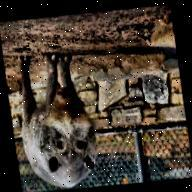boar: (4, 45, 129, 192)
